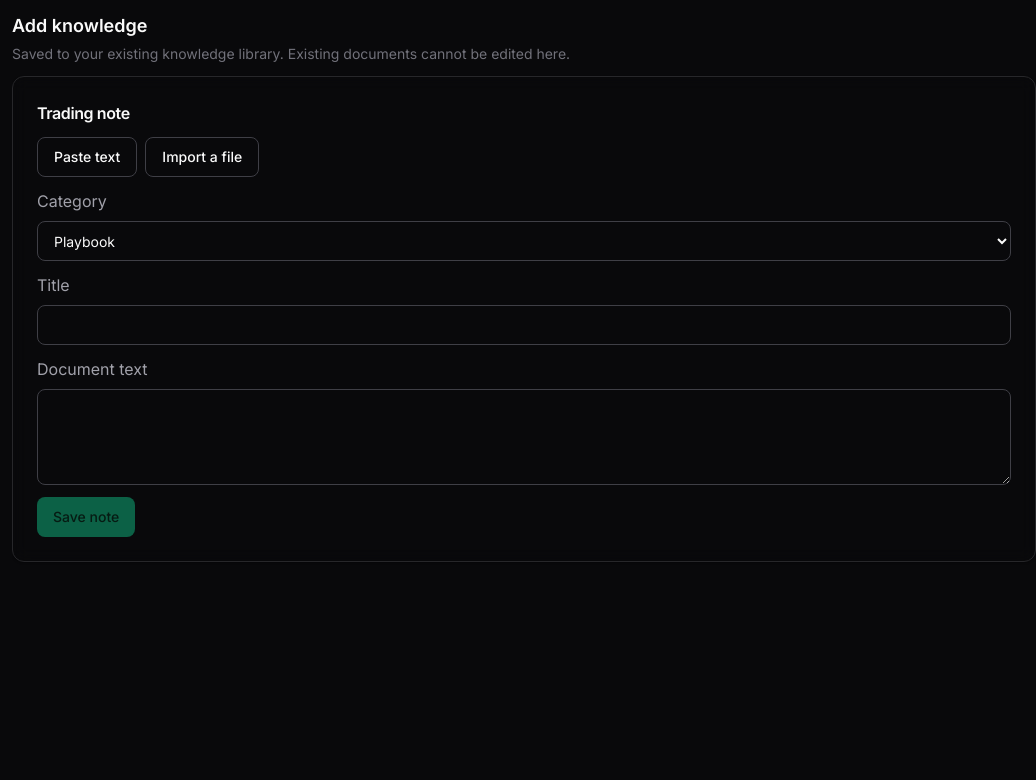
Scenario: Knowledge file preview and explicit save › preserves pasted ingestion and labels legacy indexing as unverified
Type "Pasted note" into the field labelled "Title" at (524, 325), box [37,305,1011,345]
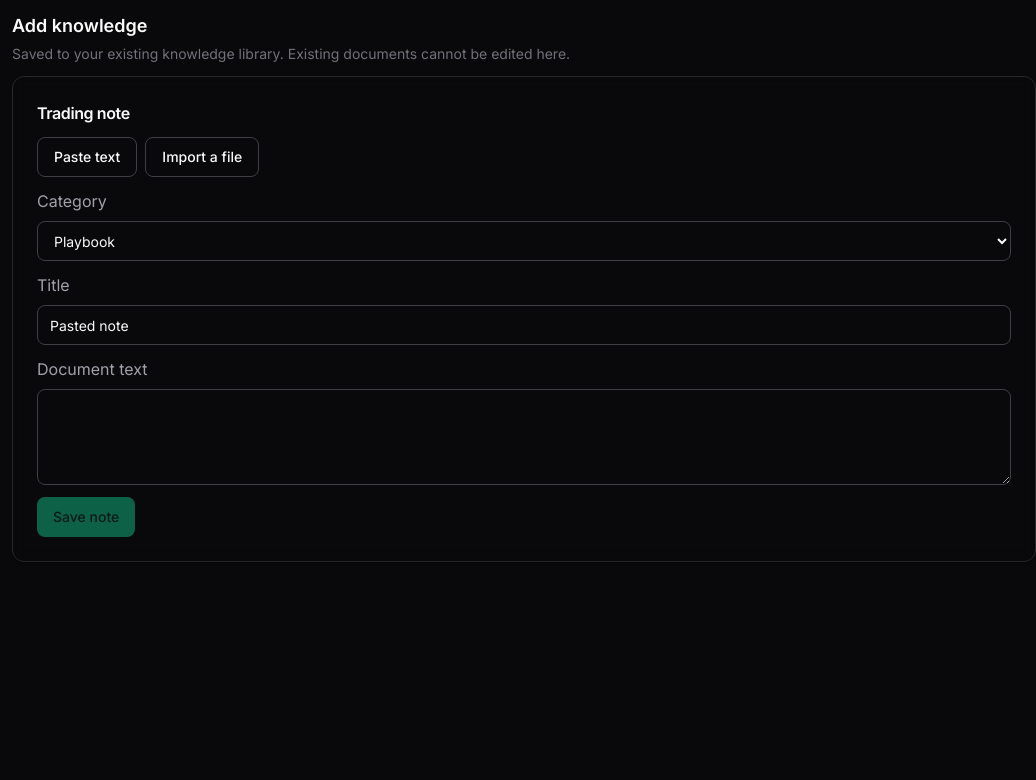
Type "Recorded text" into the text box labelled "Document text" at (524, 437), box [37,389,1011,485]
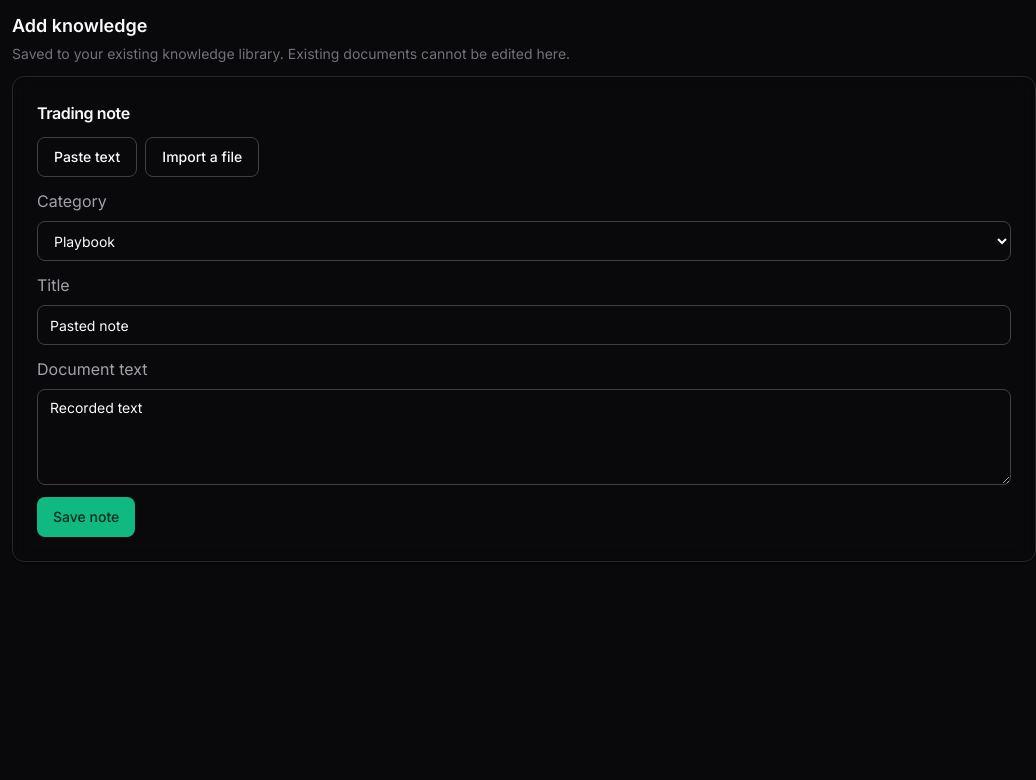
Click the button "Save note" at (86, 517), box [37,497,135,537]
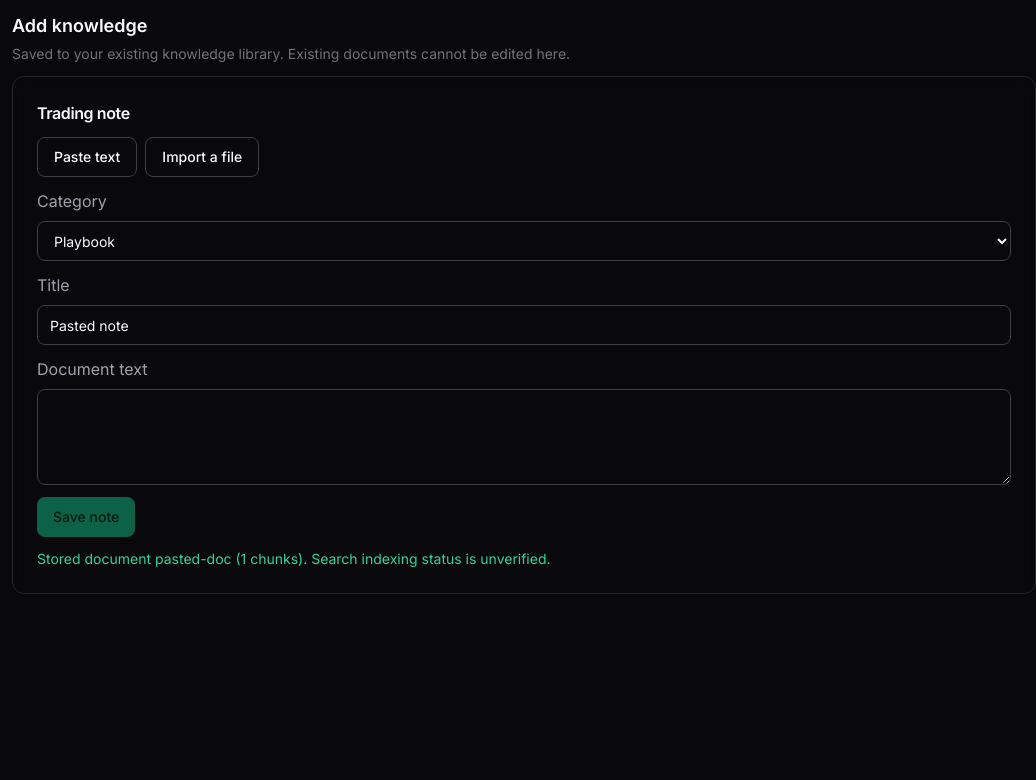
Now the message with test id "knowledge-ingest-success" shows "indexing status is unverified", box [37,550,550,567]
